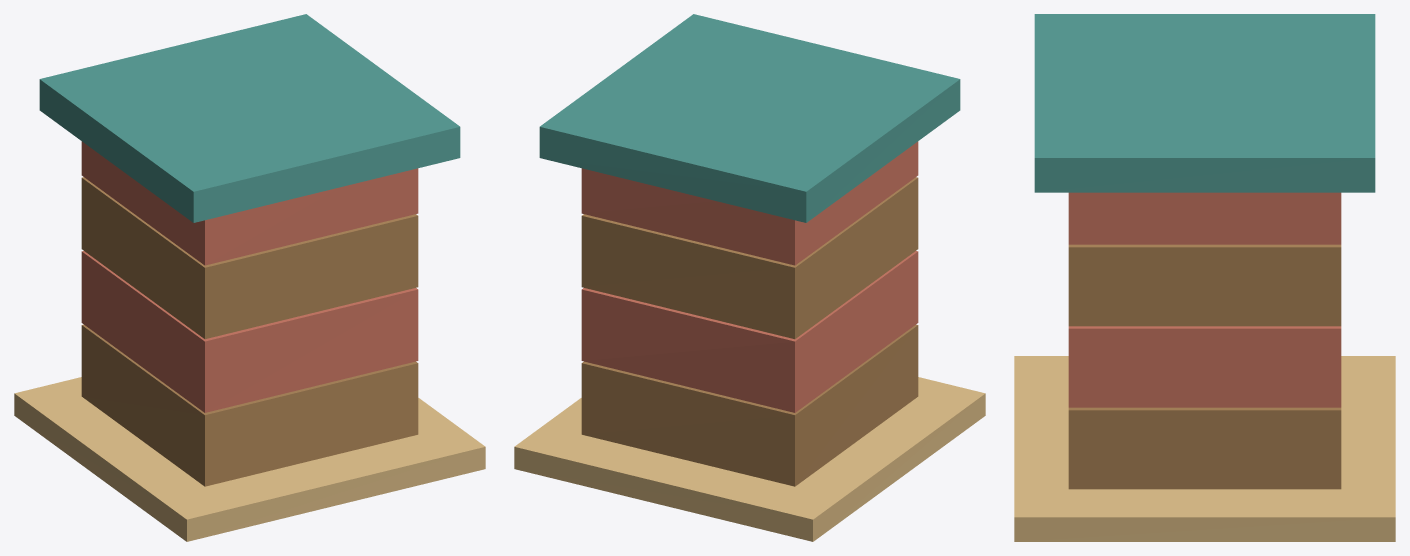
The model's file is beehive.source.glb.
3 views of the same model, side by side, from view 1: azimuth 30°, elevation 25°; view 2: azimuth 150°, elevation 25°; view 3: azimuth 270°, elevation 25° (orthographic). The views are drawn at different scales.
Visible parts, largest first — view 1: beehive-roof-mesh, beehive-base-mesh, beehive-box-0-mesh, beehive-box-2-mesh, beehive-box-1-mesh, beehive-box-3-mesh; view 2: beehive-roof-mesh, beehive-base-mesh, beehive-box-0-mesh, beehive-box-2-mesh, beehive-box-1-mesh, beehive-box-3-mesh; view 3: beehive-roof-mesh, beehive-base-mesh, beehive-box-0-mesh, beehive-box-2-mesh, beehive-box-1-mesh, beehive-box-3-mesh.
Boxes of the visible parts, x1,y1,x2,y2 form: beehive-roof-mesh: (39,14,460,222); beehive-base-mesh: (14,377,485,541); beehive-box-0-mesh: (81,324,418,486); beehive-box-2-mesh: (81,177,418,339); beehive-box-1-mesh: (81,251,418,412); beehive-box-3-mesh: (81,141,418,265); beehive-roof-mesh: (539,14,960,222); beehive-base-mesh: (514,377,985,541); beehive-box-0-mesh: (581,324,918,486); beehive-box-2-mesh: (581,177,918,339); beehive-box-1-mesh: (581,251,918,412); beehive-box-3-mesh: (581,141,918,265); beehive-roof-mesh: (1034,14,1375,192); beehive-base-mesh: (1014,356,1395,541); beehive-box-0-mesh: (1068,407,1341,489); beehive-box-2-mesh: (1068,244,1341,326); beehive-box-1-mesh: (1068,326,1341,407); beehive-box-3-mesh: (1068,192,1341,244).
Size of the model in its own units: 1.4 by 1.52 by 1.4.
